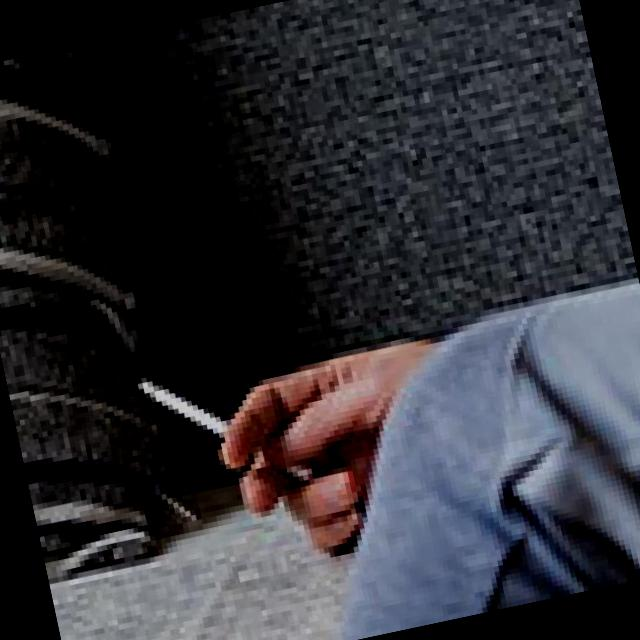smoke: (123, 346, 227, 444)
